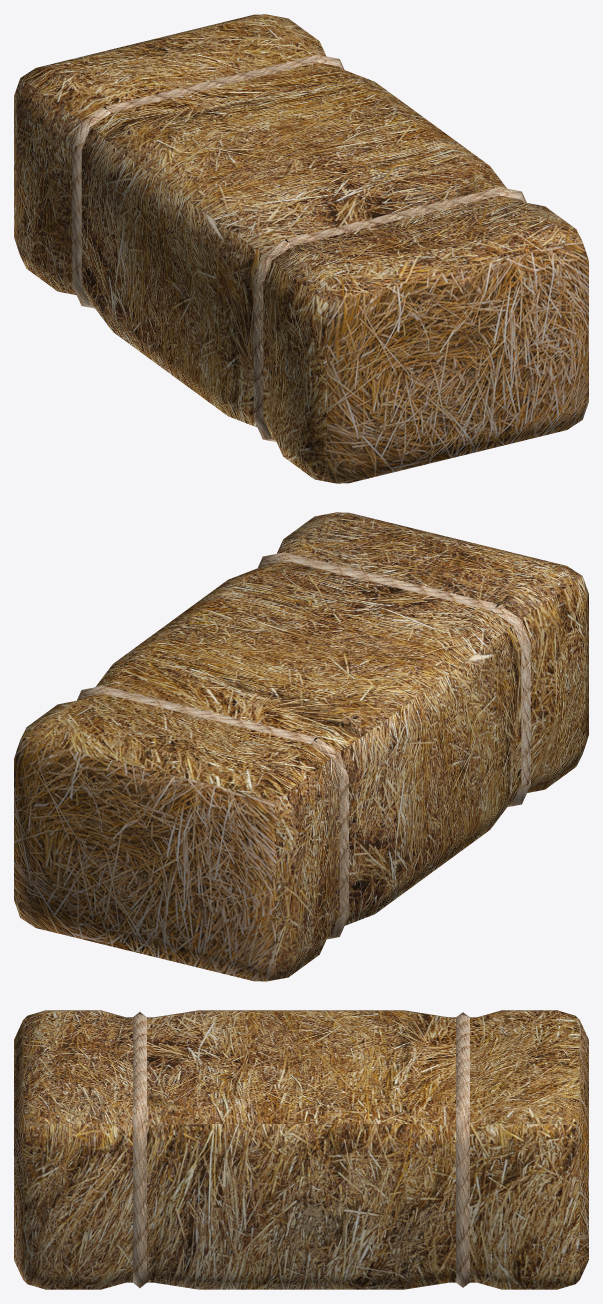
File: FlyingHaystack.fbx
3 renders of one model, top to bottom at view 1: azimuth 30°, elevation 25°; view 2: azimuth 150°, elevation 25°; view 3: azimuth 270°, elevation 25°, orthographic. The views are drawn at different scales.
Parts seen in each view (by area): view 1: Cube.120; view 2: Cube.120; view 3: Cube.120.
Part boxes in pixels (x1=…): Cube.120: x1=14, y1=14, x2=588, y2=483; Cube.120: x1=14, y1=512, x2=588, y2=981; Cube.120: x1=14, y1=1010, x2=588, y2=1289.
Size of the model in its own units: 100 by 70 by 200.
